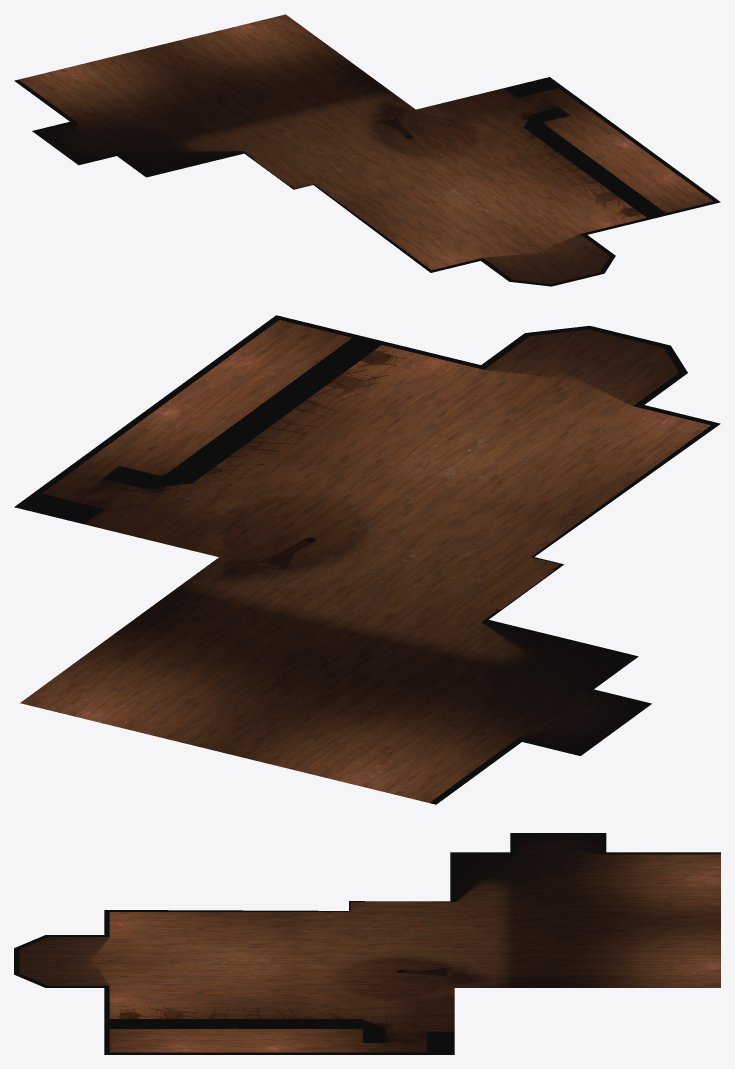
Rendered from downstairsfloor5.obj.
3 views of the same model, one above another, from view 1: azimuth 30°, elevation 25°; view 2: azimuth 150°, elevation 25°; view 3: azimuth 270°, elevation 25° (orthographic). The views are drawn at different scales.
Visible parts, largest first — view 1: downstairsFloor2 group5 BakedQuadGeos; view 2: downstairsFloor2 group5 BakedQuadGeos; view 3: downstairsFloor2 group5 BakedQuadGeos.
Boxes of the visible parts, x1,y1,x2,y2 form: downstairsFloor2 group5 BakedQuadGeos: [14, 14, 720, 286]; downstairsFloor2 group5 BakedQuadGeos: [14, 315, 720, 804]; downstairsFloor2 group5 BakedQuadGeos: [14, 833, 720, 1054].
Bounding box in the file's own units: 14.75 × 1e-06 × 19.88.
Materials: 1 (1 with a texture image).
